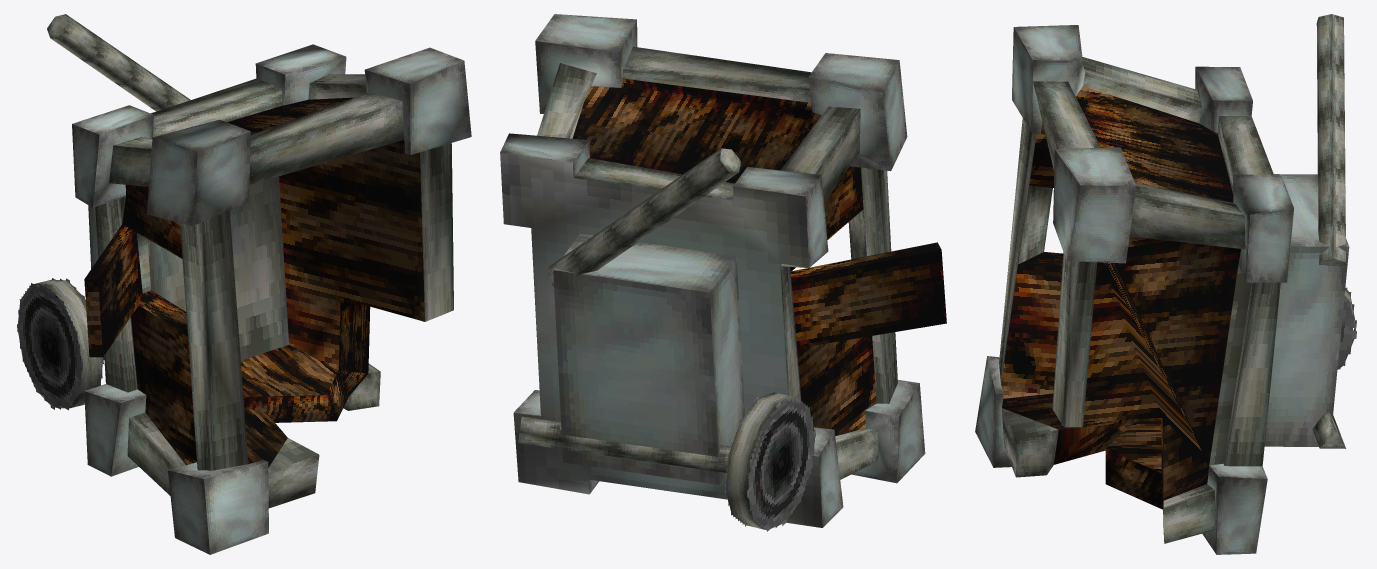
Rendered from INST_SWORDLIGHT_MINECARTBROKE.obj.
3 views of the same model, side by side, from view 1: azimuth 30°, elevation 25°; view 2: azimuth 150°, elevation 25°; view 3: azimuth 270°, elevation 25° (orthographic). The views are drawn at different scales.
Parts seen in each view (by area): view 1: rtBroke_Lod1_01; view 2: rtBroke_Lod1_01; view 3: rtBroke_Lod1_01.
Part boxes in pixels (box(x1,y1,x2,y2)): rtBroke_Lod1_01: box(17, 14, 471, 554); rtBroke_Lod1_01: box(500, 14, 946, 531); rtBroke_Lod1_01: box(975, 14, 1356, 554).
Bounding box in the file's own units: 143 × 151 × 122.
